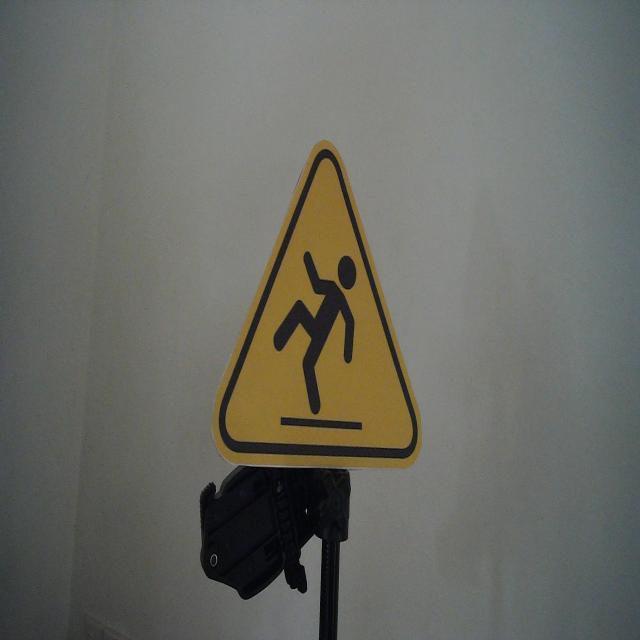slippery_sign: (210, 135, 425, 472)
